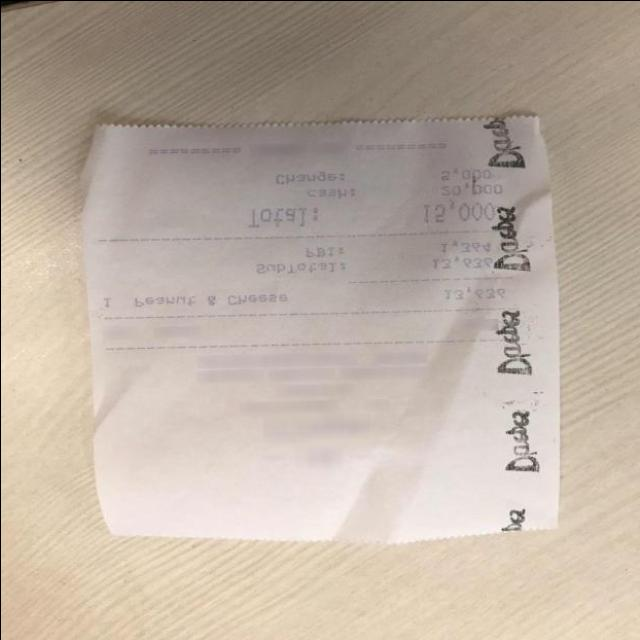kertas: (77, 114, 564, 549)
